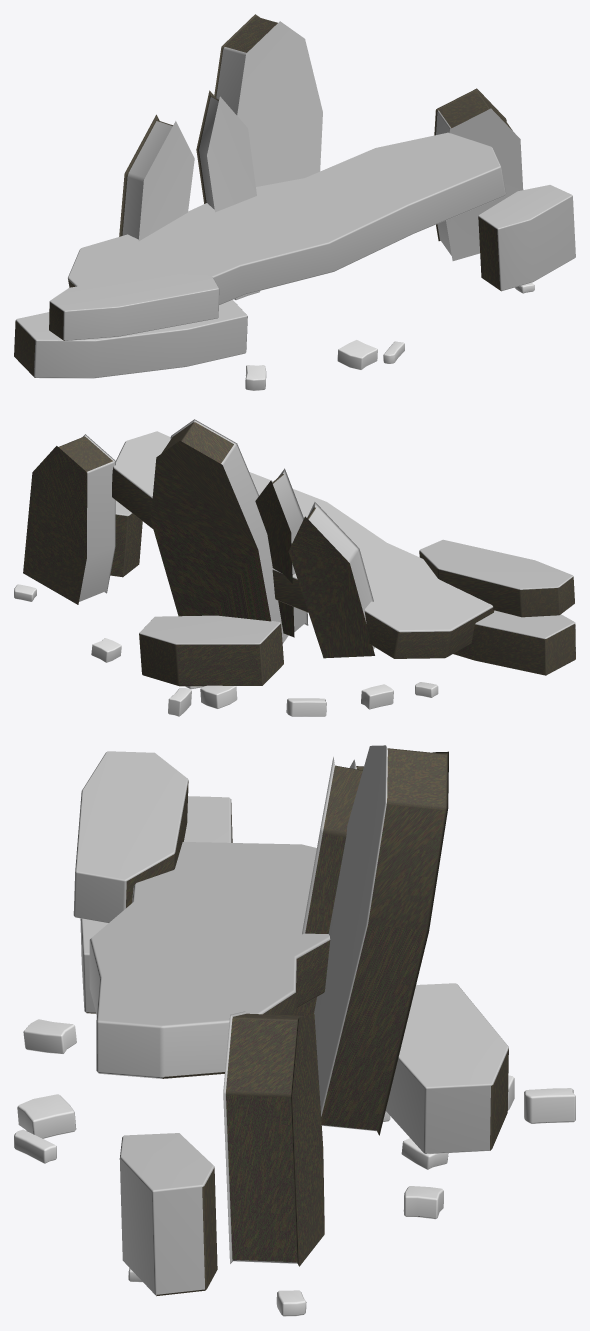
The model's file is SM_GIA_BloodAxeCairnSlabCluster_A01_VolumeProjection_LOD1.fbx.
3 views of the same model, one above another, from view 1: azimuth 30°, elevation 25°; view 2: azimuth 150°, elevation 25°; view 3: azimuth 270°, elevation 25° (orthographic). The views are drawn at different scales.
Parts seen in each view (by area): view 1: A1_Turnaround_MainFallenPaintedSlab.001, A1_Turnaround_RearTallBrokenSlab.001, A1_Turnaround_LeftFrontStackBase.001, A1_Turnaround_LeftFrontStackCap.001, A1_Turnaround_RightSupportStone.001, A1_Turnaround_LeftRearShard.001, A1_Turnaround_RightRawhideUpright.001, A1_Turnaround_CenterNarrowShard.001, A1_Turnaround_Pebble_01, A1_Turnaround_Pebble_16; view 2: A1_Turnaround_RearTallBrokenSlab.001, A1_Turnaround_MainFallenPaintedSlab.001, A1_Turnaround_RightRawhideUpright.001, A1_Turnaround_BackRootStone.001, A1_Turnaround_LeftRearShard.001, A1_Turnaround_LeftFrontStackCap.001, A1_Turnaround_LeftFrontStackBase.001, A1_Turnaround_CenterNarrowShard.001, A1_Turnaround_RightSupportStone.001, A1_Turnaround_Pebble_06, A1_Turnaround_Pebble_09.001, A1_Turnaround_Pebble_00.001 (+2 smaller); view 3: A1_Turnaround_MainFallenPaintedSlab.001, A1_Turnaround_RearTallBrokenSlab.001, A1_Turnaround_RightRawhideUpright.001, A1_Turnaround_BackRootStone.001, A1_Turnaround_LeftFrontStackCap.001, A1_Turnaround_RightSupportStone.001, A1_Turnaround_CenterNarrowShard.001, A1_Turnaround_LeftFrontStackBase.001, A1_Turnaround_Pebble_01, A1_Turnaround_Pebble_10, A1_Turnaround_Pebble_16, A1_Turnaround_Pebble_14.001 (+3 smaller).
Part boxes in pixels (x1,y1,x2,y2): A1_Turnaround_MainFallenPaintedSlab.001: (68,132,506,304); A1_Turnaround_RearTallBrokenSlab.001: (214,14,322,186); A1_Turnaround_LeftFrontStackBase.001: (14,300,247,378); A1_Turnaround_LeftFrontStackCap.001: (49,272,219,340); A1_Turnaround_RightSupportStone.001: (478,185,575,291); A1_Turnaround_LeftRearShard.001: (119,114,194,240); A1_Turnaround_RightRawhideUpright.001: (434,88,523,260); A1_Turnaround_CenterNarrowShard.001: (196,90,256,212); A1_Turnaround_Pebble_01: (337,340,377,369); A1_Turnaround_Pebble_16: (245,365,266,390); A1_Turnaround_RearTallBrokenSlab.001: (150,419,288,643); A1_Turnaround_MainFallenPaintedSlab.001: (112,431,494,658); A1_Turnaround_RightRawhideUpright.001: (23,434,115,604); A1_Turnaround_BackRootStone.001: (139,615,283,686); A1_Turnaround_LeftRearShard.001: (288,502,374,658); A1_Turnaround_LeftFrontStackCap.001: (419,539,574,617); A1_Turnaround_LeftFrontStackBase.001: (453,610,575,675); A1_Turnaround_CenterNarrowShard.001: (255,468,308,637); A1_Turnaround_RightSupportStone.001: (110,500,142,577); A1_Turnaround_Pebble_06: (286,698,326,716); A1_Turnaround_Pebble_09.001: (200,685,237,708); A1_Turnaround_Pebble_00.001: (361,684,393,709); A1_Turnaround_MainFallenPaintedSlab.001: (89,842,330,1078); A1_Turnaround_RearTallBrokenSlab.001: (314,745,448,1135); A1_Turnaround_RightRawhideUpright.001: (223,1011,324,1266); A1_Turnaround_BackRootStone.001: (385,983,508,1153); A1_Turnaround_LeftFrontStackCap.001: (73,751,188,923); A1_Turnaround_RightSupportStone.001: (119,1133,217,1296); A1_Turnaround_CenterNarrowShard.001: (296,757,362,1015); A1_Turnaround_LeftFrontStackBase.001: (80,796,232,1013); A1_Turnaround_Pebble_01: (17,1094,76,1138); A1_Turnaround_Pebble_10: (524,1088,575,1123); A1_Turnaround_Pebble_16: (23,1019,76,1053); A1_Turnaround_Pebble_14.001: (403,1186,443,1219).
Size of the model in its own units: 18228 by 32313 by 14594.
